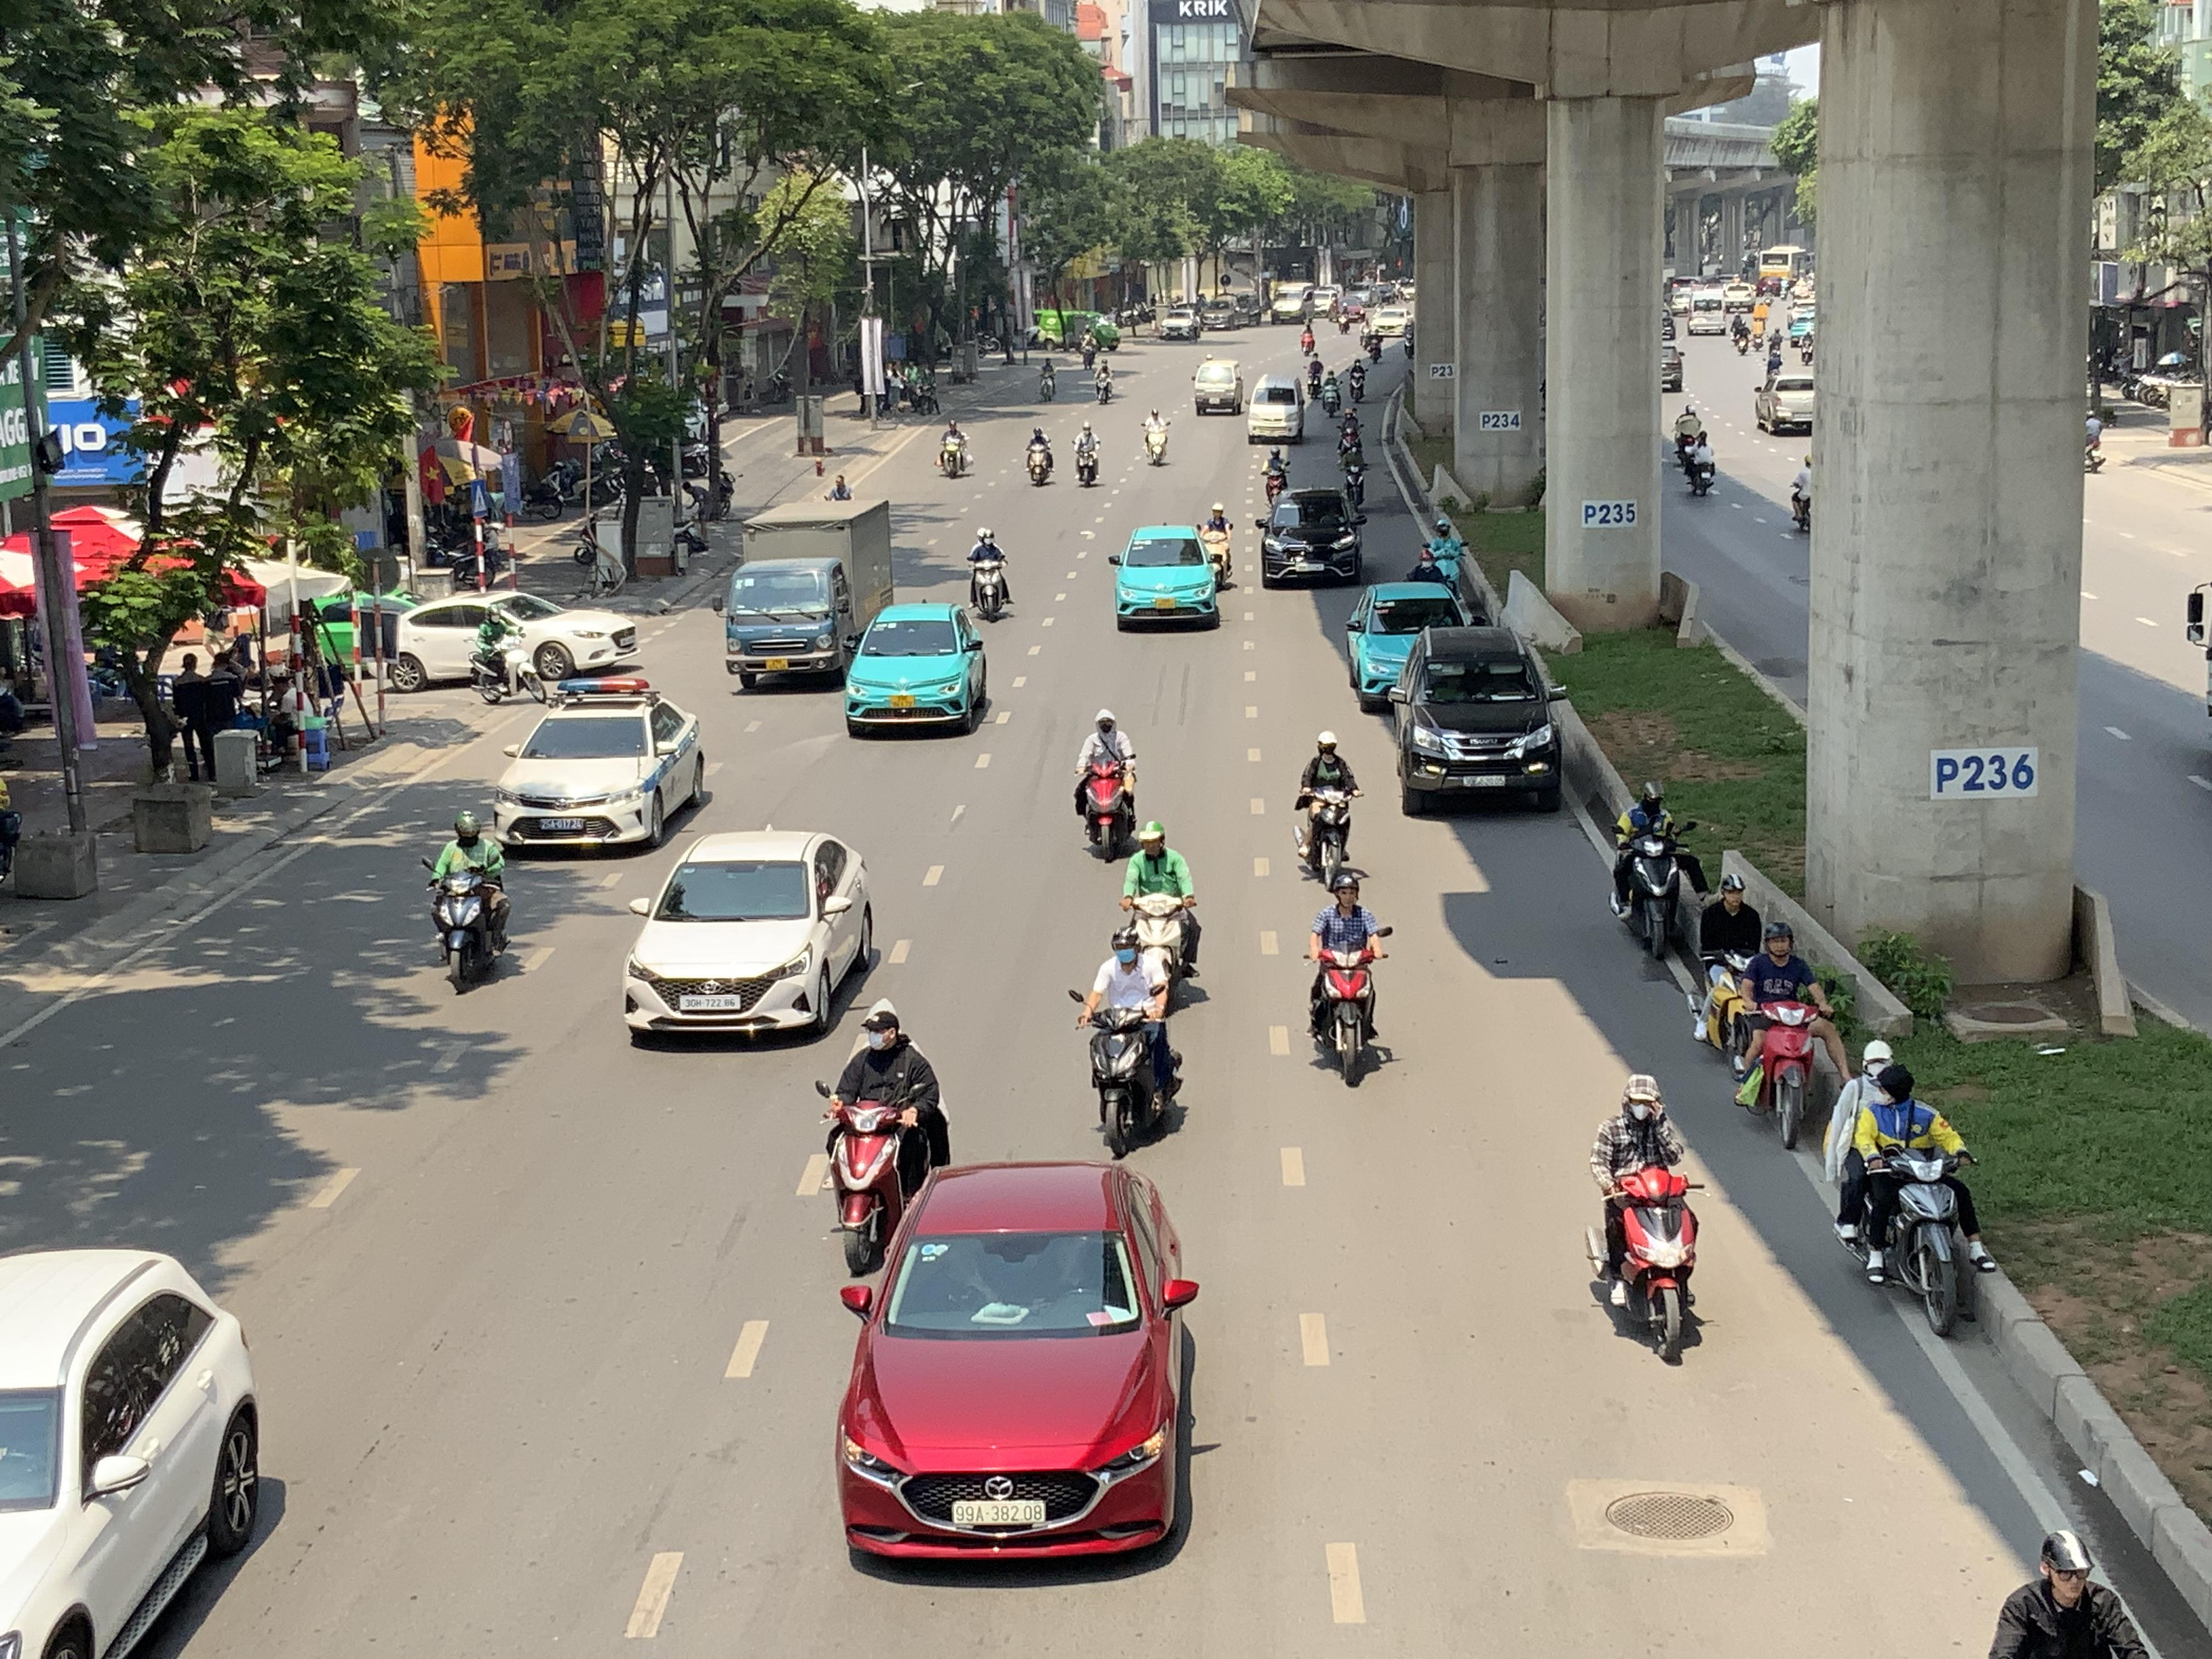BSD: (953, 1499, 1045, 1527), (679, 993, 742, 1011), (540, 817, 585, 830)
car: (833, 1159, 1204, 1568), (0, 1244, 266, 1659), (622, 830, 880, 1047), (491, 694, 712, 854), (1386, 622, 1568, 814), (395, 589, 637, 690), (843, 603, 991, 737), (1345, 580, 1472, 708), (1109, 525, 1223, 631), (1258, 486, 1366, 587), (1245, 376, 1308, 443), (1754, 369, 1817, 436), (1191, 359, 1247, 415), (1157, 305, 1202, 342)
motorbike: (1829, 1051, 1991, 1340), (819, 1002, 951, 1277), (1587, 1072, 1705, 1366), (1073, 924, 1186, 1161), (1973, 1530, 2175, 1659), (1728, 920, 1836, 1152), (1305, 868, 1392, 1089), (1608, 779, 1709, 969), (425, 810, 512, 995), (1120, 823, 1204, 1006), (1688, 870, 1766, 1060), (1294, 730, 1360, 884), (1075, 709, 1139, 861), (1409, 512, 1493, 626), (470, 601, 547, 706), (967, 526, 1012, 620), (1676, 416, 1717, 497), (1198, 504, 1237, 591), (1787, 453, 1815, 535), (1338, 448, 1369, 519), (937, 416, 972, 479), (1071, 420, 1103, 486), (1024, 420, 1055, 486), (1141, 406, 1172, 467), (1259, 444, 1291, 504), (2083, 401, 2107, 472)
truck: (721, 498, 895, 690)
